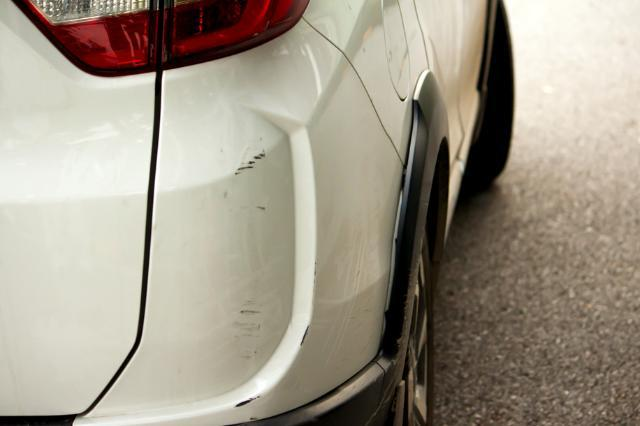Bumper: (166, 75, 393, 398)
